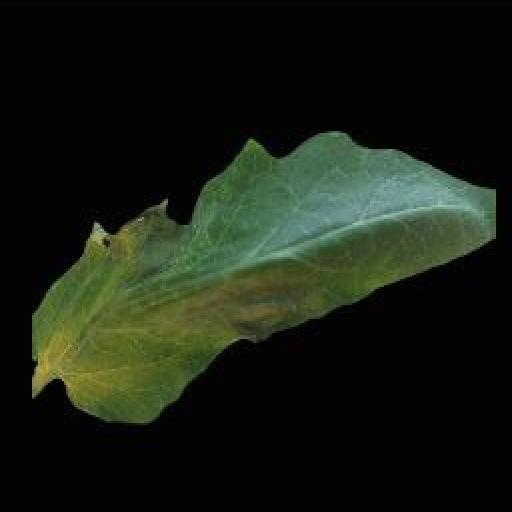disease_tomato: (29, 126, 495, 420)
